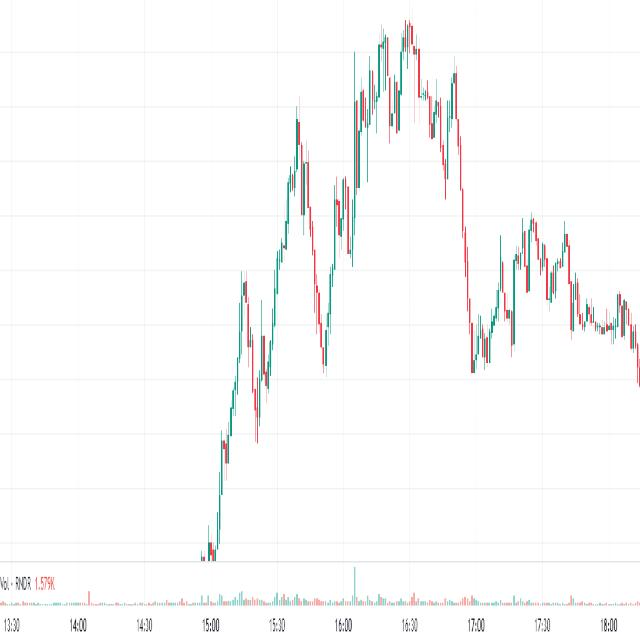Double-Bottom: (247, 334, 281, 433)
Double-Top: (327, 172, 352, 267)
Head-Shoulders: (272, 86, 320, 291)
Rounding-Top: (322, 0, 478, 310)
